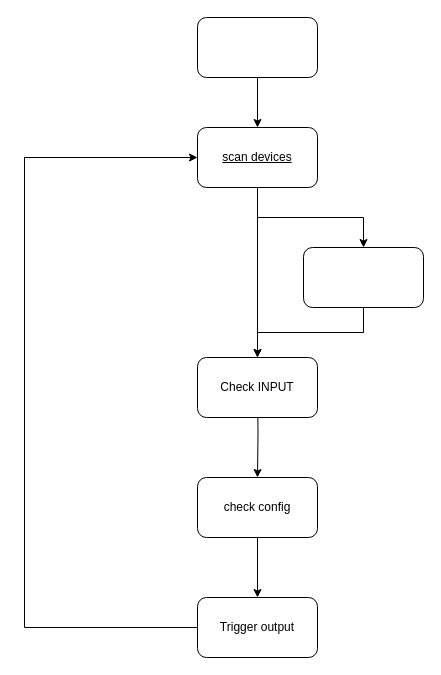
This 441x675 diagram has some shape labels left out. Here are the shapes that lost their labels. From the top down, the centre of each, then its label:
the point at 257,47: power on
the point at 363,277: initialization new devices
